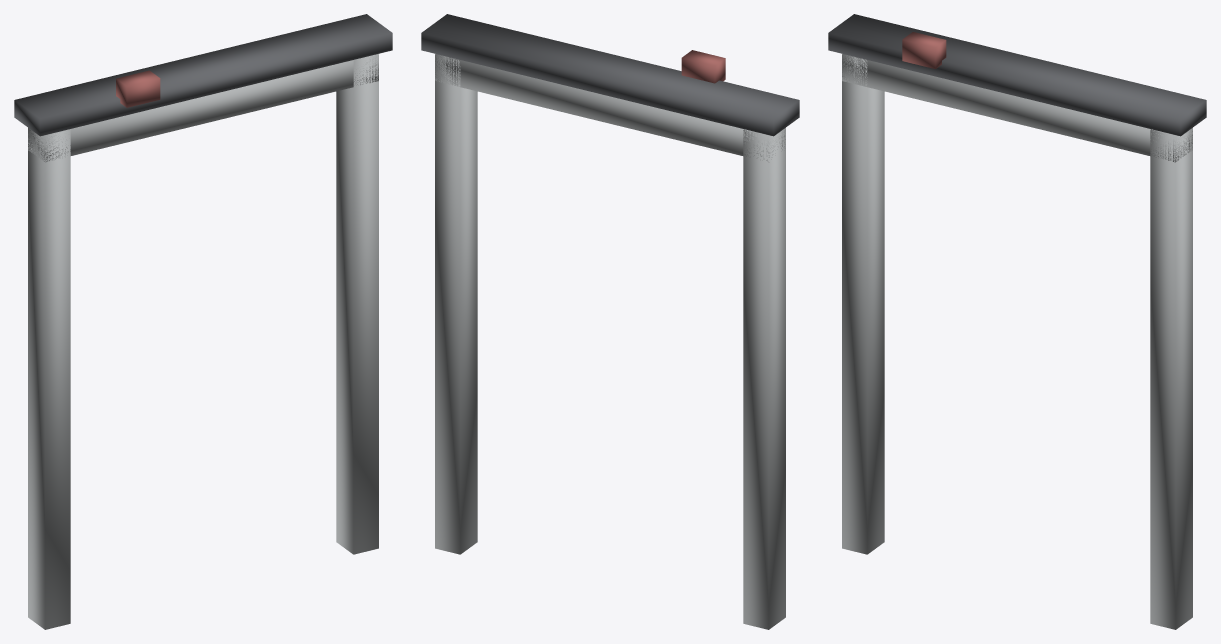
Rendered from doorway_fire_rated_w152_h240_d16.glb.
3 renders of one model, left to right at view 1: azimuth 30°, elevation 25°; view 2: azimuth 150°, elevation 25°; view 3: azimuth 330°, elevation 25°, orthographic.
Parts seen in each view (by area): view 1: world; view 2: world; view 3: world.
Part boxes in pixels (<box>): world: <box>14,14,392,629</box>; world: <box>421,14,799,629</box>; world: <box>828,14,1206,629</box>.
Size of the model in its own units: 1.89 by 2.74 by 0.3.
